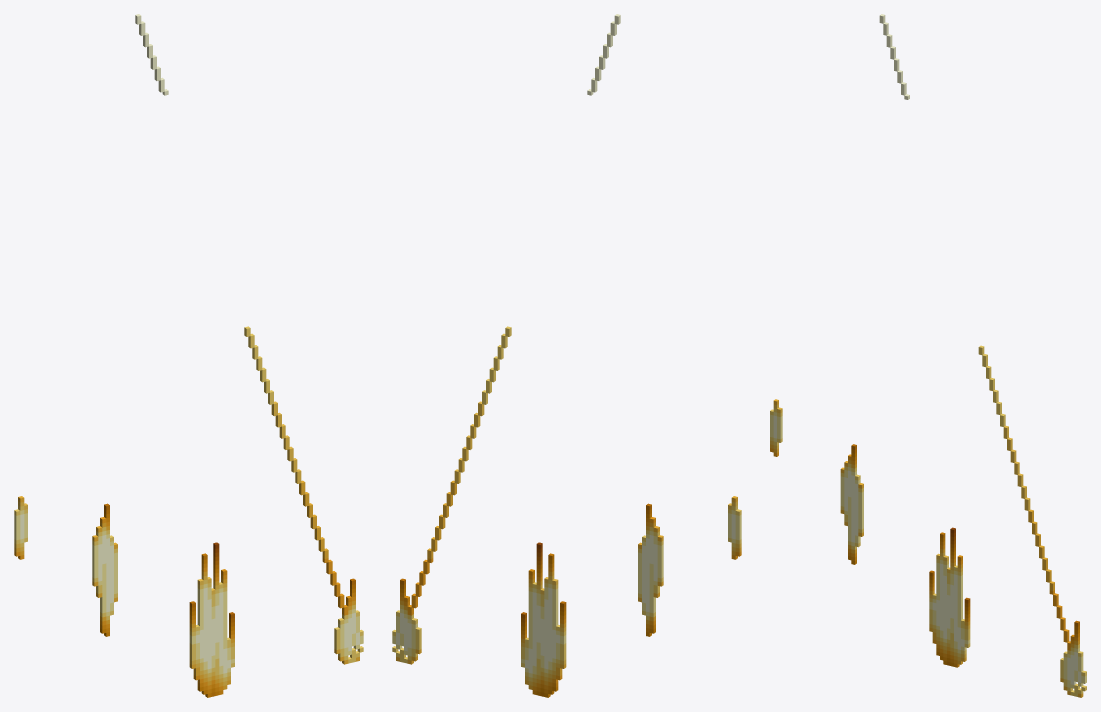
The model's file is Fight_745_2_07_fx.obj.
The picture shows the model from 3 angles, left to right: view 1: azimuth 30°, elevation 25°; view 2: azimuth 150°, elevation 25°; view 3: azimuth 330°, elevation 25°; orthographic projection. The views are drawn at different scales.
Size of the model in its own units: 8.9 by 17.1 by 0.1.
